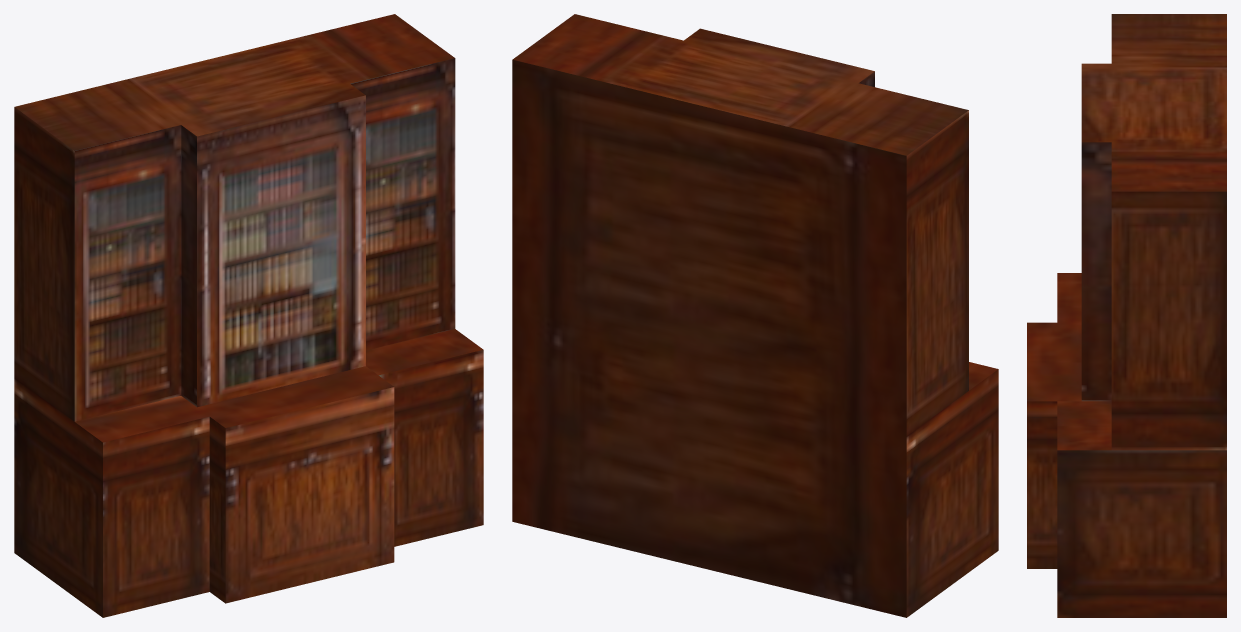
Rendered from Bookcase_01-col.glb.
3 views of the same model, side by side, from view 1: azimuth 30°, elevation 25°; view 2: azimuth 150°, elevation 25°; view 3: azimuth 270°, elevation 25° (orthographic). The views are drawn at different scales.
Parts seen in each view (by area): view 1: Bookcase_01-col; view 2: Bookcase_01-col; view 3: Bookcase_01-col.
Boxes of the visible parts, x1,y1,x2,y2 form: Bookcase_01-col: (14, 14, 483, 617); Bookcase_01-col: (512, 14, 998, 617); Bookcase_01-col: (1027, 14, 1226, 617).
Bounding box in the file's own units: 1.65 × 1.85 × 0.7841.
1 material, 1 textured.
